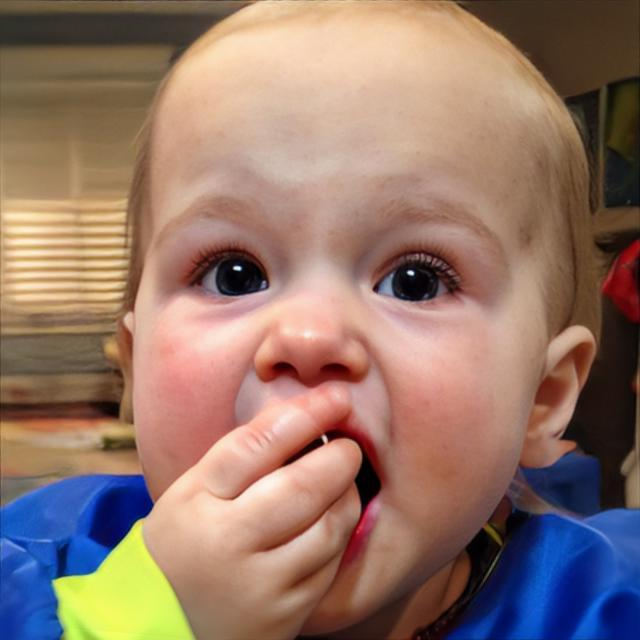surprise: (128, 2, 544, 636)
